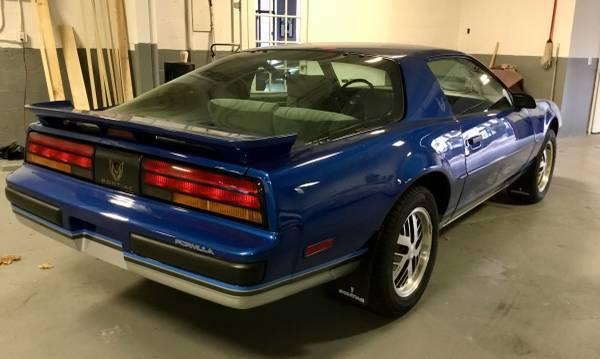Front_Right_Door: (450, 109, 535, 220)
Front_Right_Window: (426, 55, 526, 118)
Left_Taillight: (21, 128, 93, 180)
Rear_Bumper: (2, 143, 297, 310)
Rear_Fender: (243, 114, 465, 295)
Rear_Windshield: (110, 45, 404, 154)
Right_Taillight: (136, 151, 269, 230)
Roof: (254, 39, 465, 121)
Tailgate: (26, 101, 297, 175)
Wheel: (365, 188, 442, 315), (528, 131, 559, 202)
